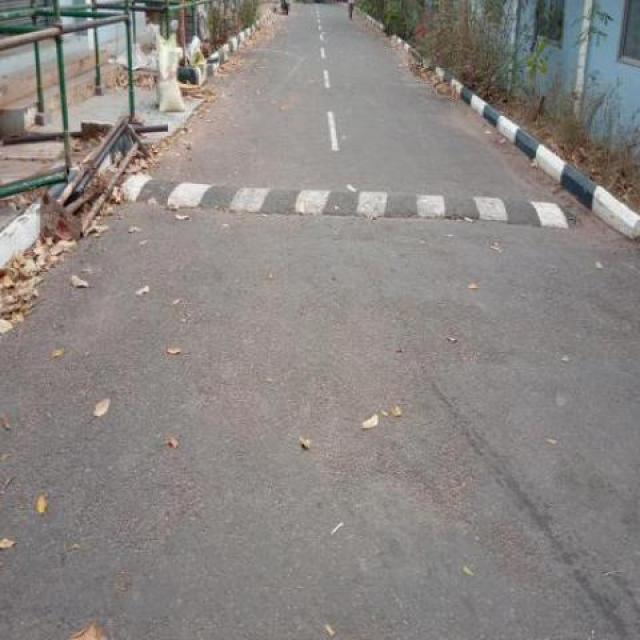Speed Bump: (113, 164, 580, 230)
